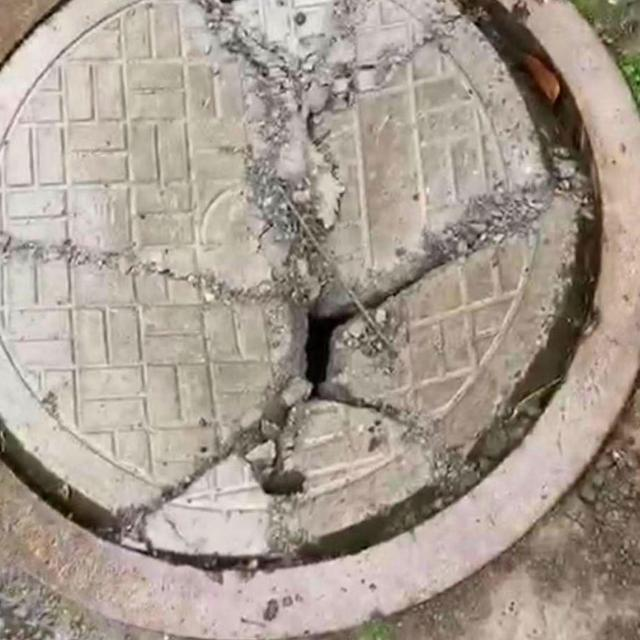broke: (0, 0, 604, 577)
